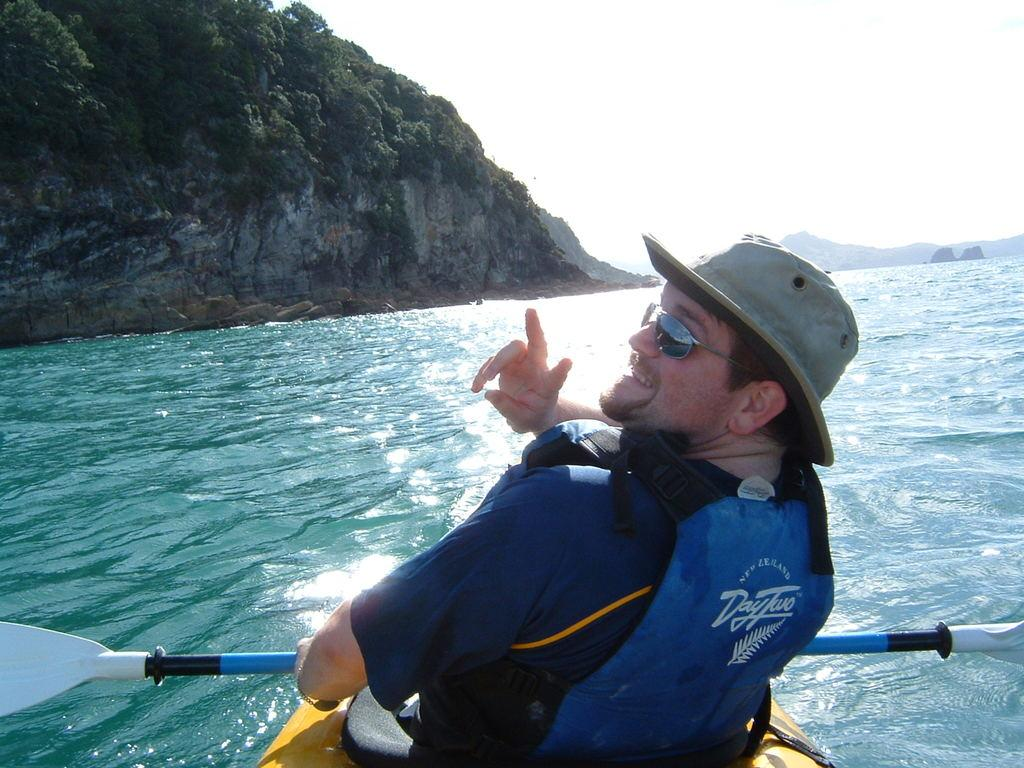Hat: (638, 232, 860, 470)
